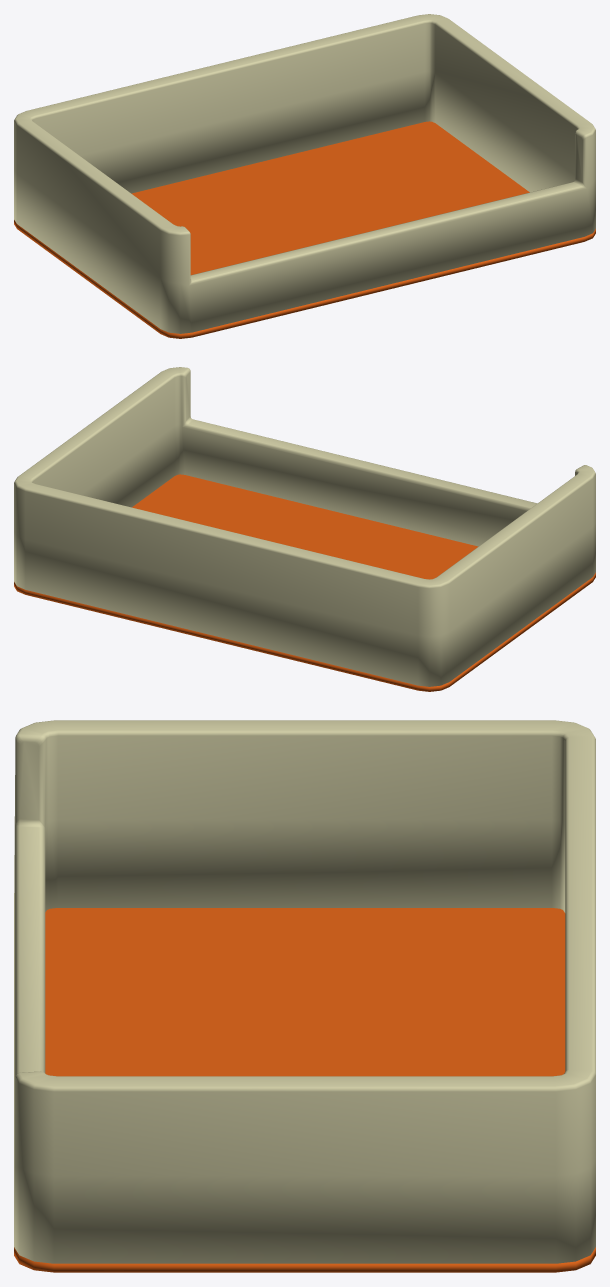
Rendered from lobby.fbx.
3 renders of one model, top to bottom at view 1: azimuth 30°, elevation 25°; view 2: azimuth 150°, elevation 25°; view 3: azimuth 270°, elevation 25°, orthographic. The views are drawn at different scales.
Visible parts, largest first — view 1: walls, ground; view 2: walls, ground; view 3: walls, ground.
Boxes of the visible parts, box(x1,y1,x2,y2) form: walls: box(14, 14, 595, 333); ground: box(14, 121, 595, 338); walls: box(14, 367, 595, 686); ground: box(14, 474, 595, 691); walls: box(14, 720, 595, 1263); ground: box(14, 908, 595, 1272).
Size of the model in its own units: 1800 by 420 by 1200.
